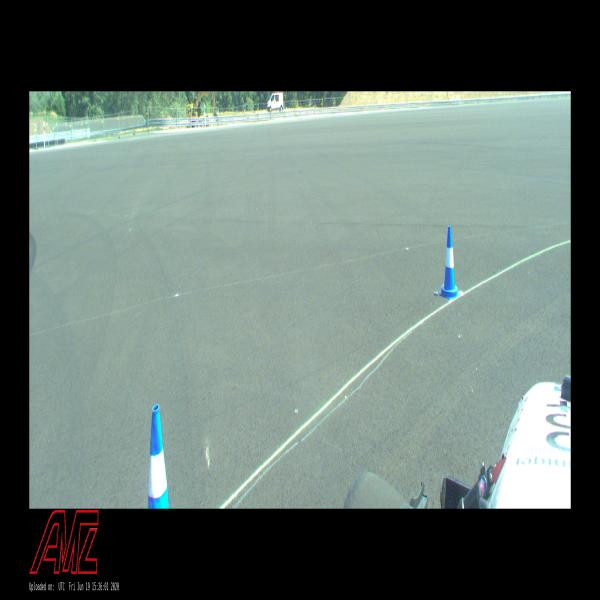blue_cone: (149, 405, 169, 508), (439, 227, 460, 297)
